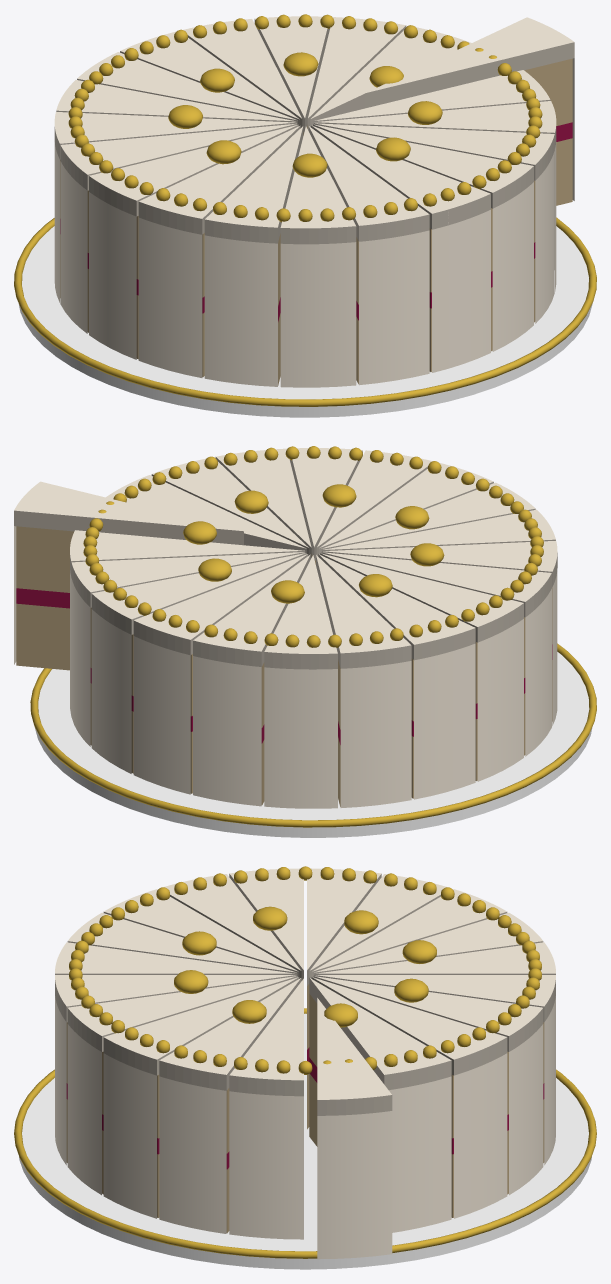
File: torta-30cm-11alto-1p-20porc-vainilla.glb
The picture shows the model from 3 angles, top to bottom: view 1: azimuth 30°, elevation 25°; view 2: azimuth 150°, elevation 25°; view 3: azimuth 270°, elevation 25°; orthographic projection. The views are drawn at different scales.
Size of the model in its own units: 0.3814 by 0.1316 by 0.365.
